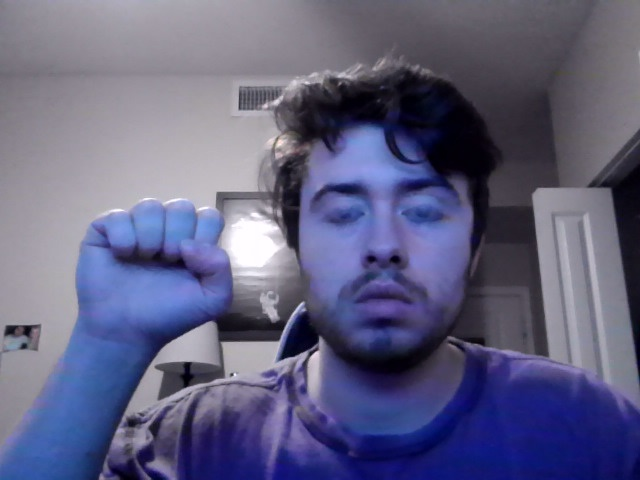e: (74, 197, 234, 352)
